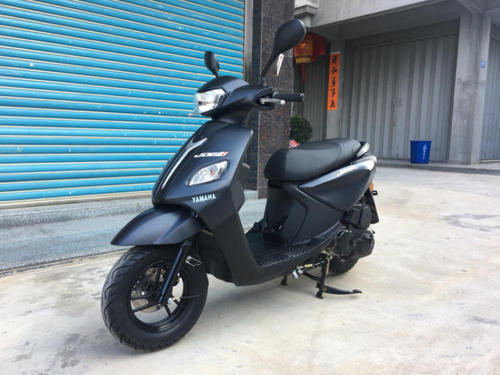motor: (110, 56, 378, 349)
